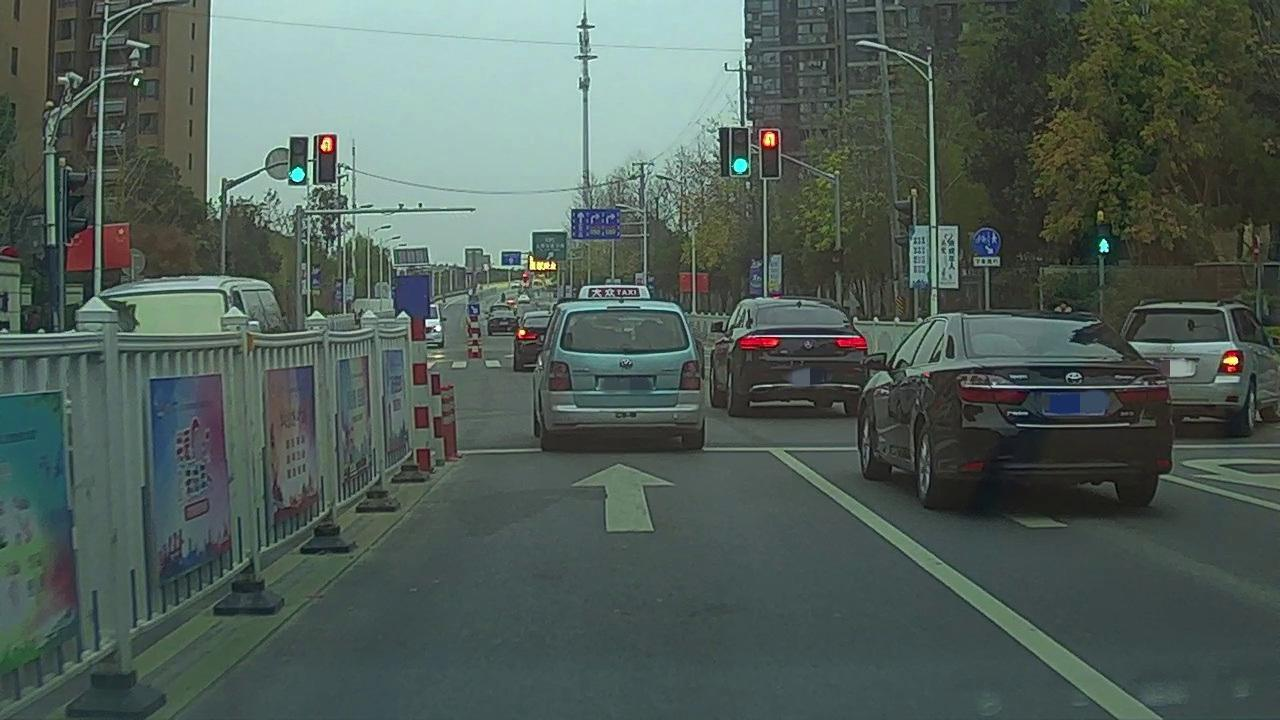traffic_light: (317, 134, 336, 183), (762, 131, 779, 177), (734, 129, 750, 175), (290, 137, 305, 184)
